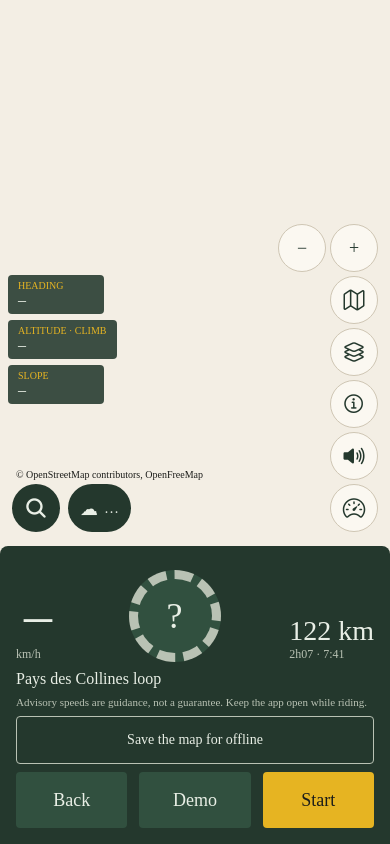
Test case: on the roadbook there is no approach: it joins where the rider is
Click the button "Start" at coordinates (318, 800), box 263,772 -> 374,828
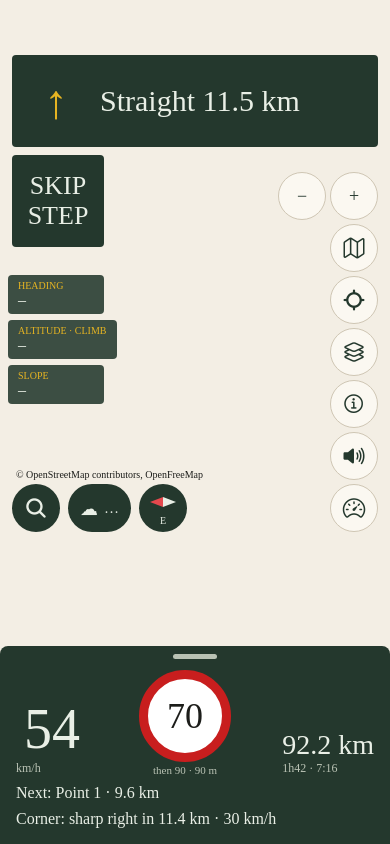
Now the text "Straight 11.5 km" is shown, box 100,84 -> 300,117
Now the text "Next: Point 1 · 9.6 km" is shown, box 16,784 -> 159,801
